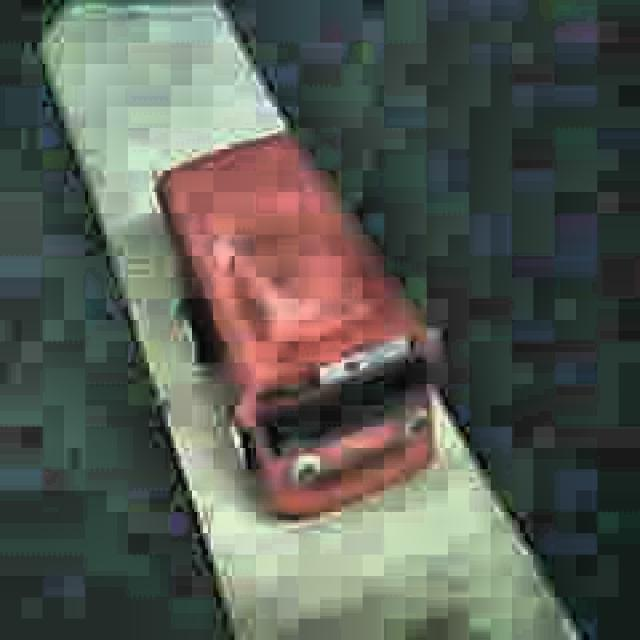bus: (152, 132, 438, 523)
